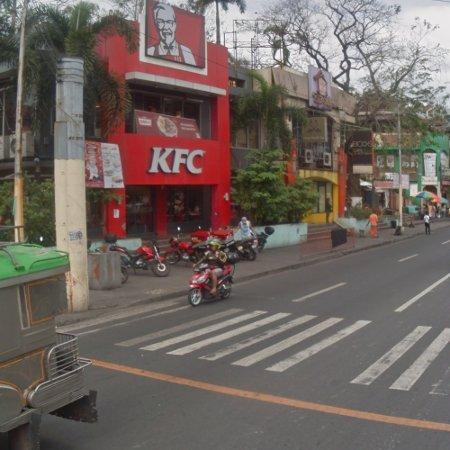crosswalks: (113, 307, 450, 401)
